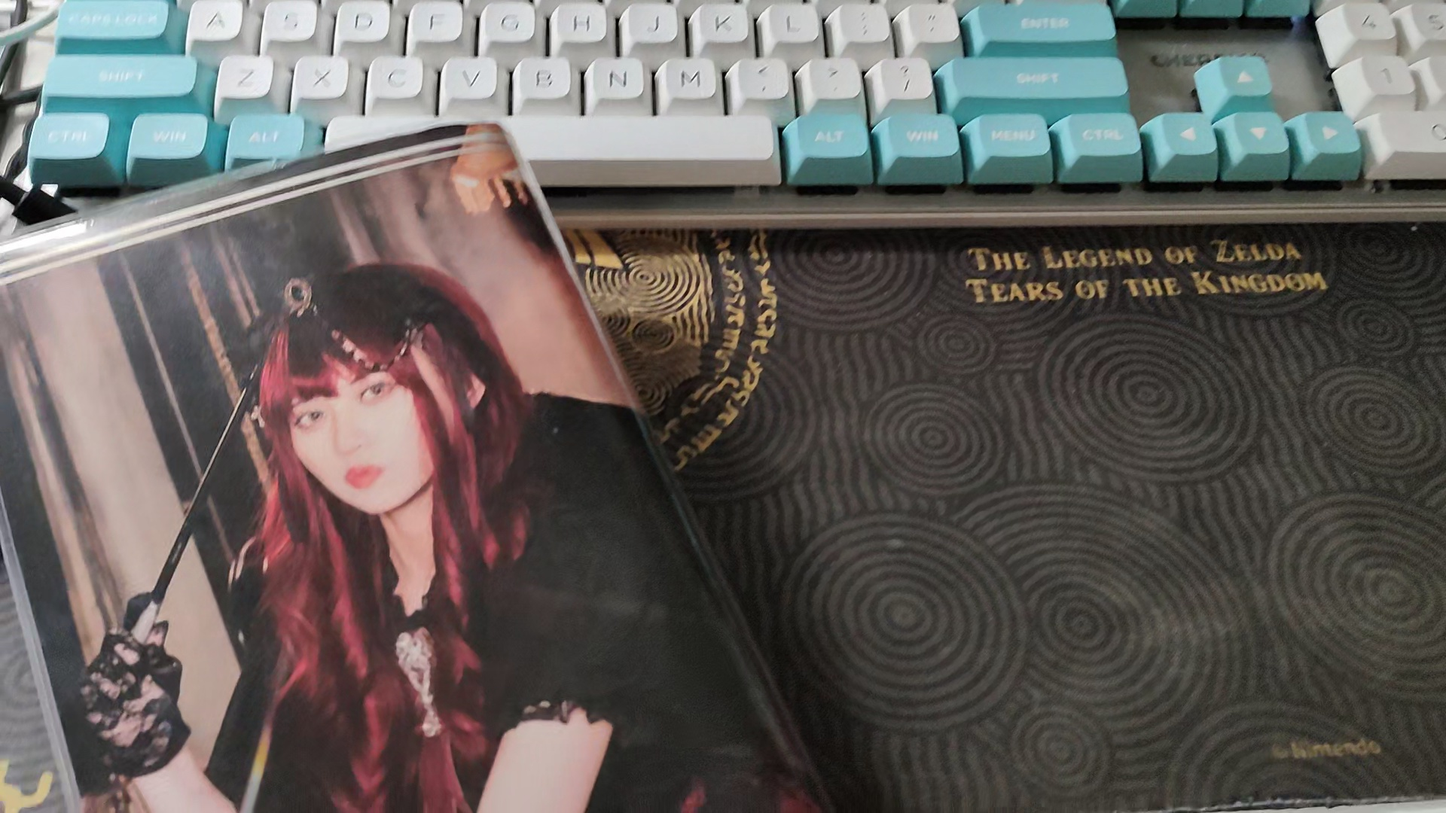Photo_book: (0, 121, 839, 813)
